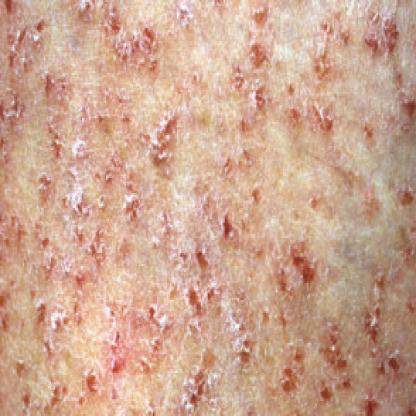Atopic Dermatitis: (3, 9, 408, 409)
